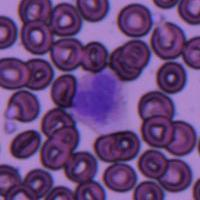N: (72, 66, 127, 132)
